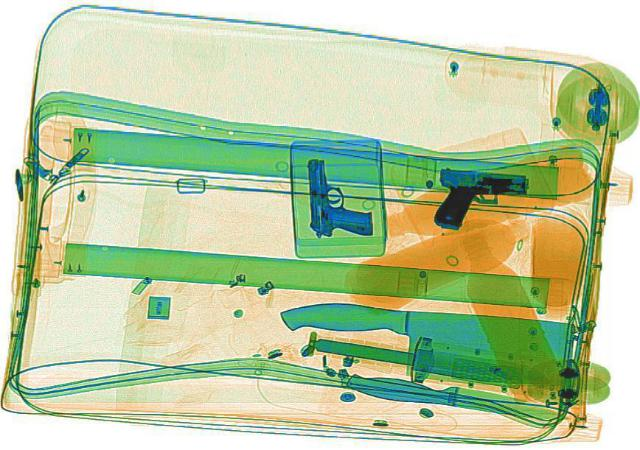Gun: (427, 164, 531, 232), (302, 156, 373, 236)
Knife: (270, 296, 578, 389), (304, 330, 552, 389), (339, 364, 563, 427)
